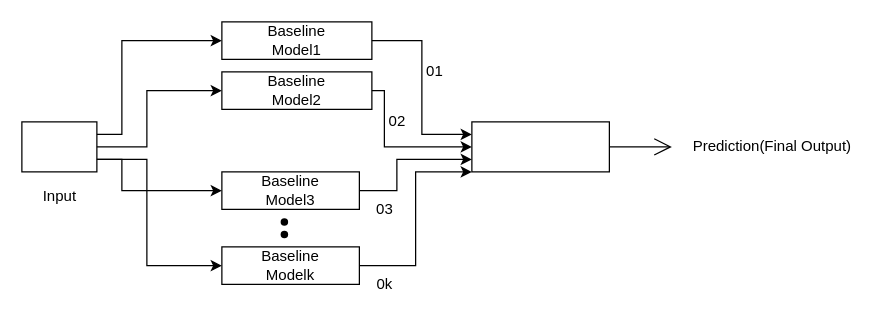
The diagram is 881 pixels wide and 319 high, and some of its shapes have lost their labels. Here are the shapes that lost their labels. From the top down, the centre of each, then its label:
the point at 59,146: Data
the point at 540,146: Recommender Model
